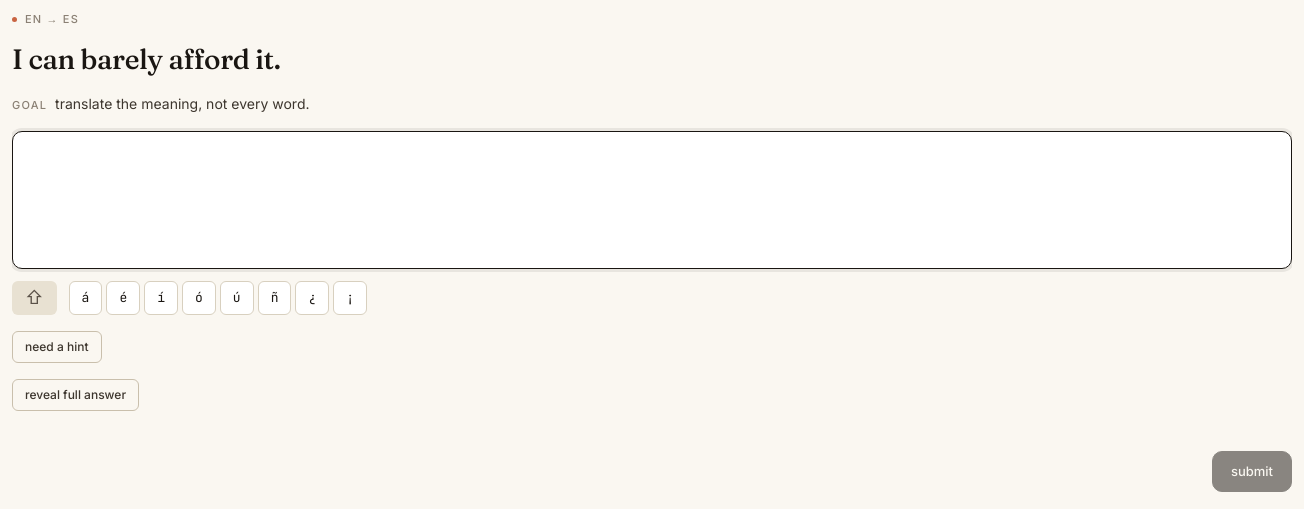
Scenario: TranslationExercise › word hints › reveals the full reference translation on "reveal full answer"
The image size is (1304, 509).
Expected: the text "Apenas puedo permitírmelo ahora mismo." is not shown
Click the button "reveal full answer" at (76, 395), box [12,379,139,411]
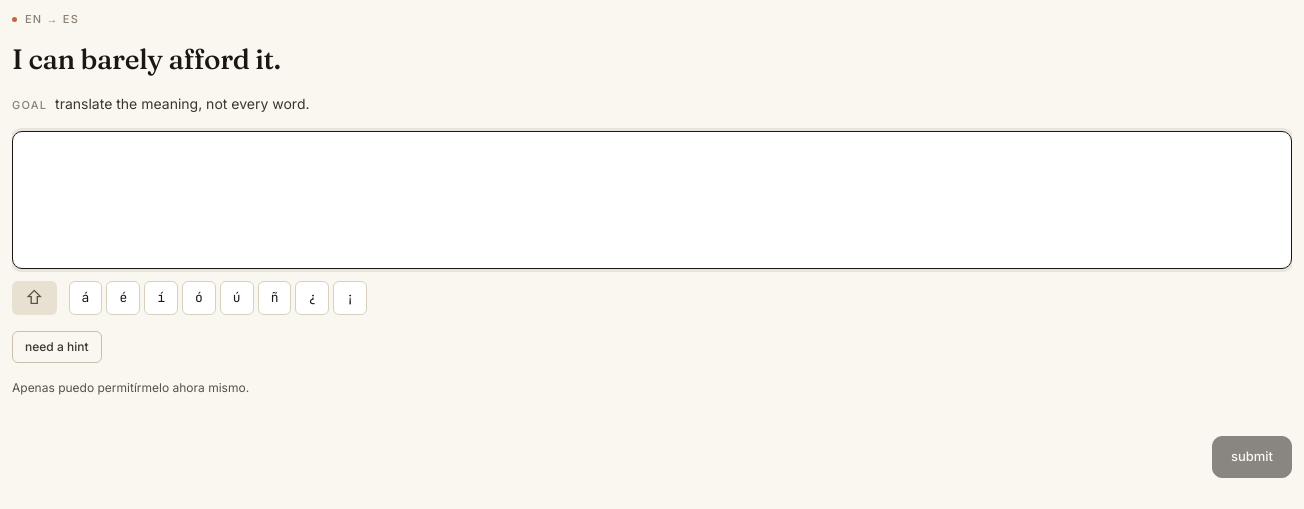
Expected: the text "Apenas puedo permitírmelo ahora mismo." is shown, [12,380,249,395]
